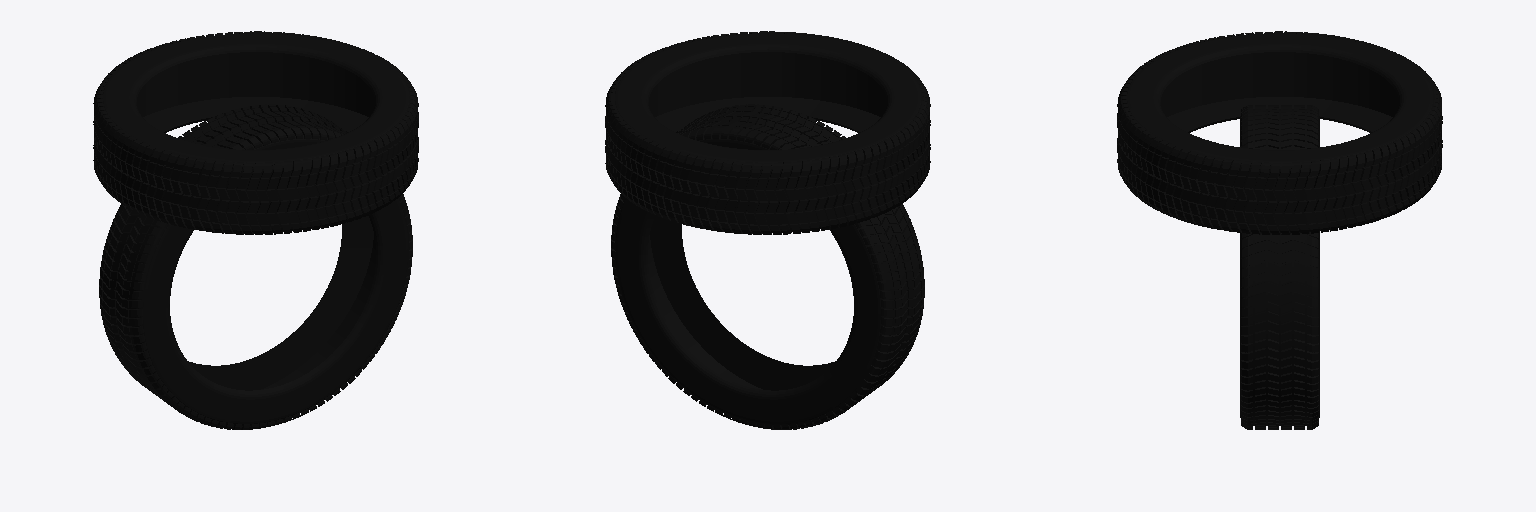
File: tyre.obj
The picture shows the model from 3 angles: view 1: azimuth 30°, elevation 25°; view 2: azimuth 150°, elevation 25°; view 3: azimuth 270°, elevation 25°; orthographic projection.
Visible parts, largest first — view 1: резина, резина_1, Объект_Плоскость_36, Объект_Плоскость_37, Объект_Плоскость_38, Объект_Плоскость_43, Объект_Плоскость_49, Объект_Плоскость_42, Объект_Плоскость_35, Объект_Плоскость_34, Объект_Плоскость_40, Объект_Плоскость_47 (+15 smaller); view 2: резина, резина_1, Объект_Плоскость_3, Объект_Плоскость_4, Объект_Плоскость_2, Объект_Плоскость_5, Объект_Плоскость_1, Объект_Плоскость_7, Объект_Плоскость_13, Объект_Плоскость_15, Объект_Плоскость_9, Объект_Плоскость_10 (+15 smaller); view 3: резина, резина_1, Объект_Плоскость_70, Объект_Плоскость_71, Объект_Плоскость_69, Объект_Плоскость_74, Объект_Плоскость_77, Объект_Плоскость_72, Объект_Плоскость_68, Объект_Плоскость_80, Объект_Плоскость_73, Объект_Плоскость_81 (+28 smaller).
Part boxes in pixels (x1,y1,x2,y2): резина: (101, 33, 409, 232); резина_1: (111, 111, 408, 426); Объект_Плоскость_36: (189, 158, 206, 230); Объект_Плоскость_37: (198, 160, 215, 232); Объект_Плоскость_38: (208, 161, 225, 233); Объект_Плоскость_43: (257, 162, 272, 234); Объект_Плоскость_49: (315, 155, 328, 228); Объект_Плоскость_42: (247, 163, 263, 234); Объект_Плоскость_35: (180, 157, 197, 229); Объект_Плоскость_34: (171, 155, 188, 227); Объект_Плоскость_40: (227, 162, 243, 234); Объект_Плоскость_47: (296, 159, 310, 231); резина: (615, 33, 921, 232); резина_1: (615, 111, 912, 426); Объект_Плоскость_3: (707, 159, 724, 231); Объект_Плоскость_4: (716, 160, 733, 232); Объект_Плоскость_2: (698, 158, 715, 230); Объект_Плоскость_5: (726, 161, 743, 233); Объект_Плоскость_1: (689, 156, 706, 228); Объект_Плоскость_7: (746, 162, 762, 234); Объект_Плоскость_13: (805, 159, 819, 231); Объект_Плоскость_15: (824, 156, 837, 228); Объект_Плоскость_9: (766, 162, 781, 234); Объект_Плоскость_10: (776, 162, 791, 234); резина: (1126, 33, 1432, 232); резина_1: (1240, 109, 1319, 425); Объект_Плоскость_70: (1216, 159, 1233, 231); Объект_Плоскость_71: (1225, 160, 1242, 232); Объект_Плоскость_69: (1207, 157, 1224, 229); Объект_Плоскость_74: (1254, 162, 1271, 234); Объект_Плоскость_77: (1284, 162, 1299, 234); Объект_Плоскость_72: (1235, 161, 1251, 233); Объект_Плоскость_68: (1198, 155, 1215, 228); Объект_Плоскость_80: (1314, 160, 1328, 232); Объект_Плоскость_73: (1245, 162, 1261, 234); Объект_Плоскость_81: (1323, 158, 1337, 231).
Bounding box in the file's own units: 411 × 442 × 411.